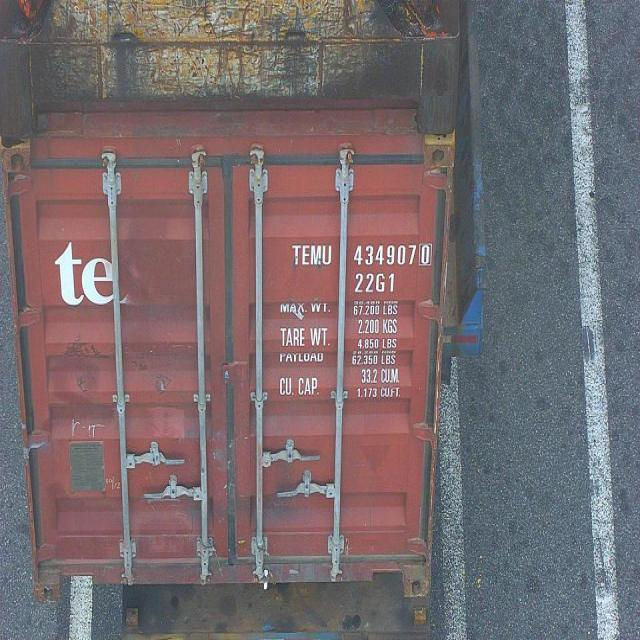ISO: (356, 272, 397, 293)
container_number: (291, 243, 431, 267)
